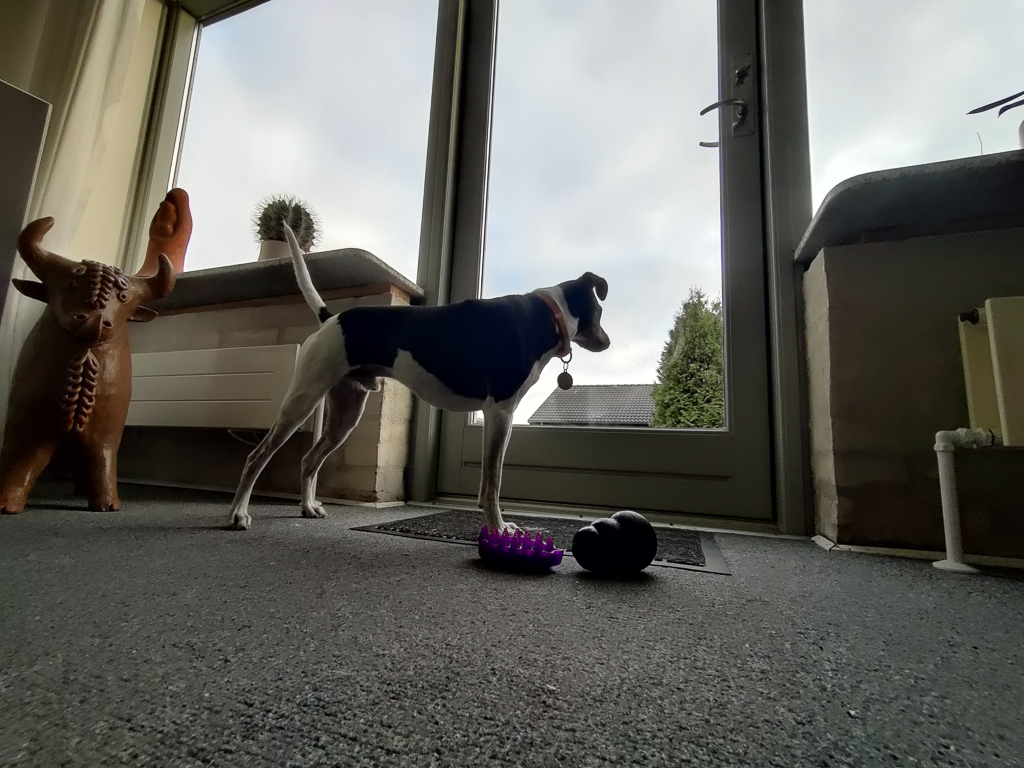Cattle: (0, 207, 182, 517)
Dog: (220, 204, 625, 554)
Humanoid: (126, 184, 196, 283)
